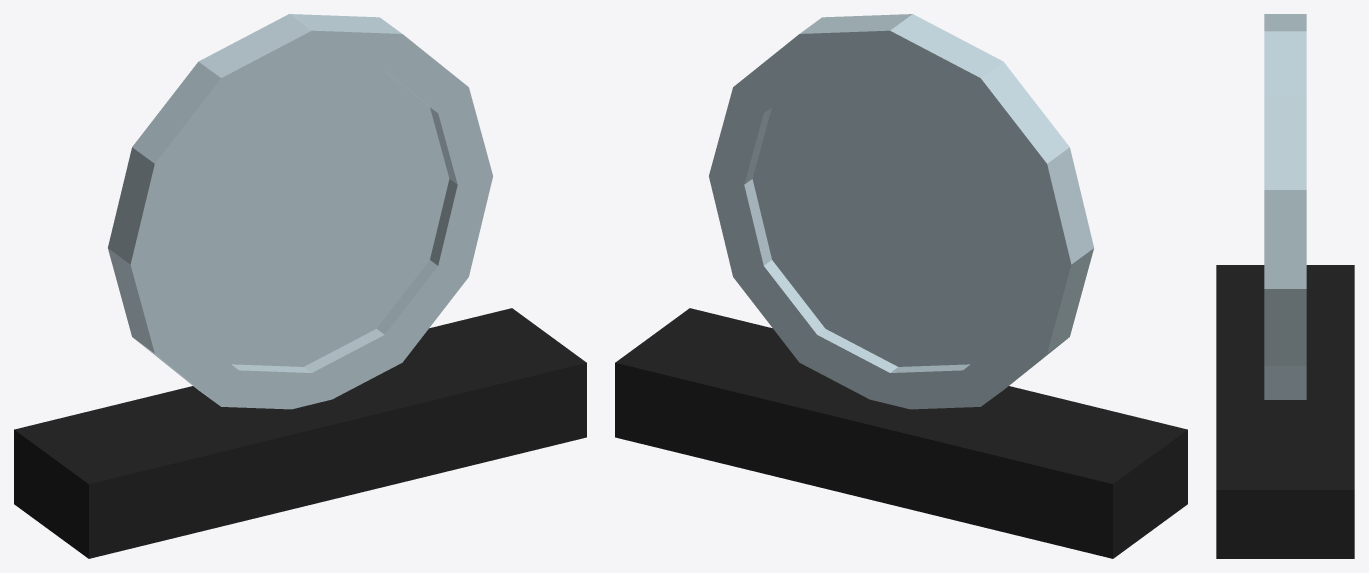
File: TrophyV5Silver.fbx
3 renders of one model, left to right at view 1: azimuth 30°, elevation 25°; view 2: azimuth 150°, elevation 25°; view 3: azimuth 270°, elevation 25°, orthographic. The views are drawn at different scales.
Visible parts, largest first — view 1: TrophyV5Silver; view 2: TrophyV5Silver; view 3: TrophyV5Silver.
Part boxes in pixels (box(x1,y1,x2,y2)): TrophyV5Silver: box(14, 14, 586, 558); TrophyV5Silver: box(615, 14, 1187, 558); TrophyV5Silver: box(1216, 14, 1354, 558).
Bounding box in the file's own units: 8.07 × 6.95 × 2.1.
